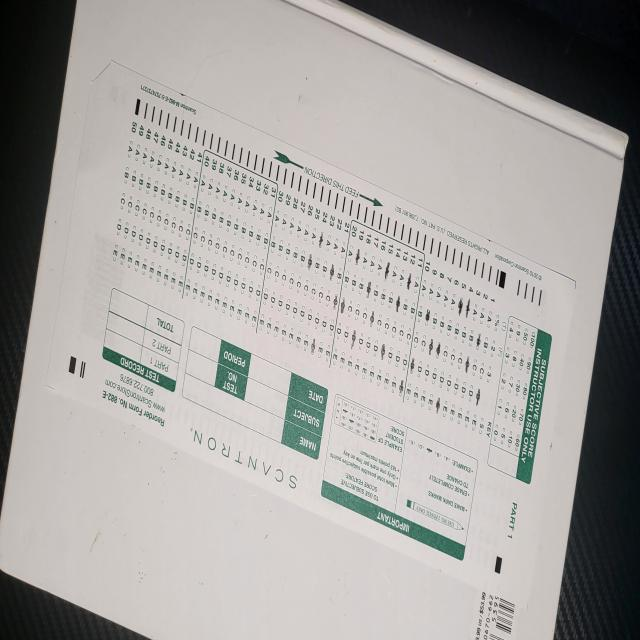scantron: (45, 60, 576, 610)
